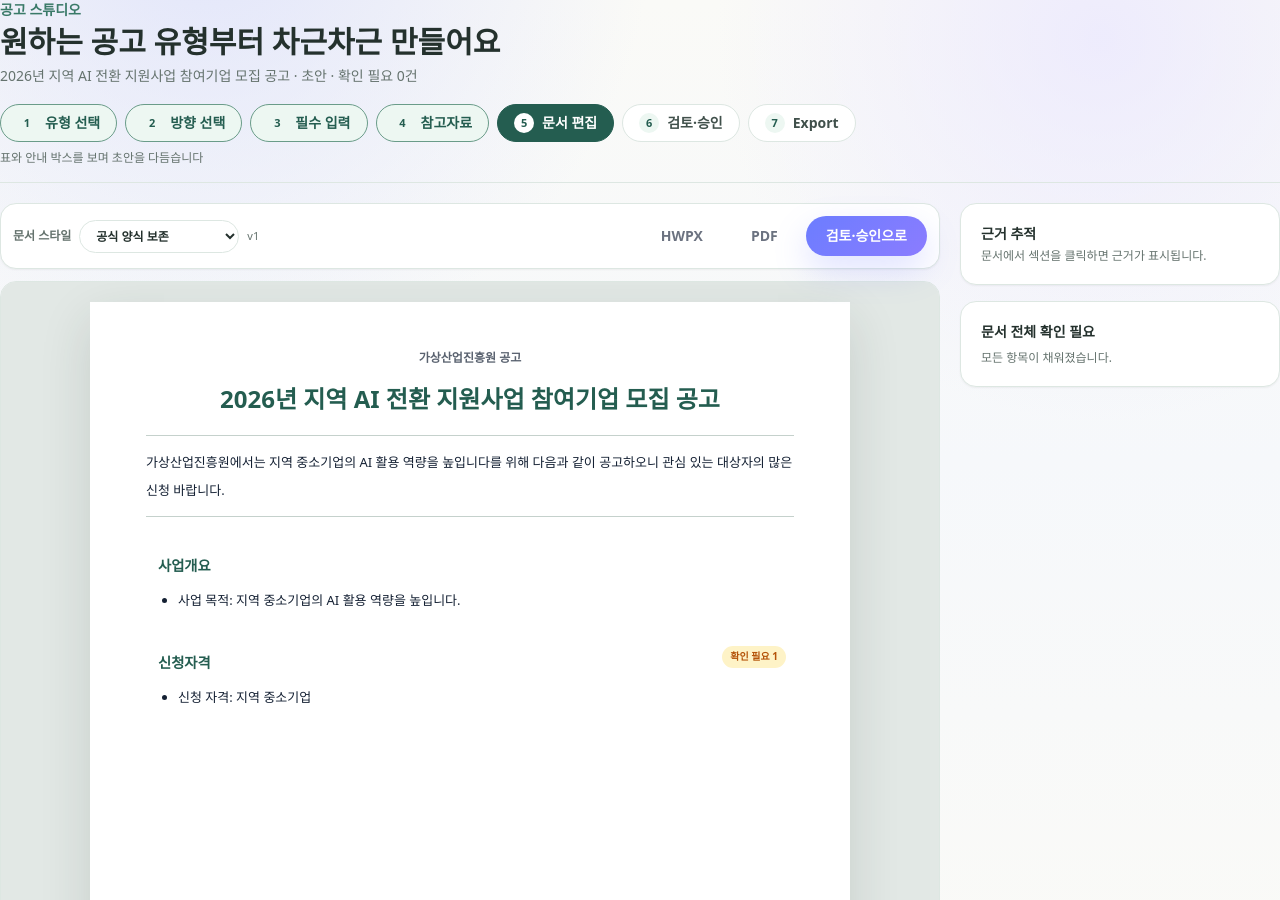
it: AgencyStudio › shows the source trace panel for the selected section
Click the button with test id "editor-section-eligibility": (754, 657) [146,638,794,727]
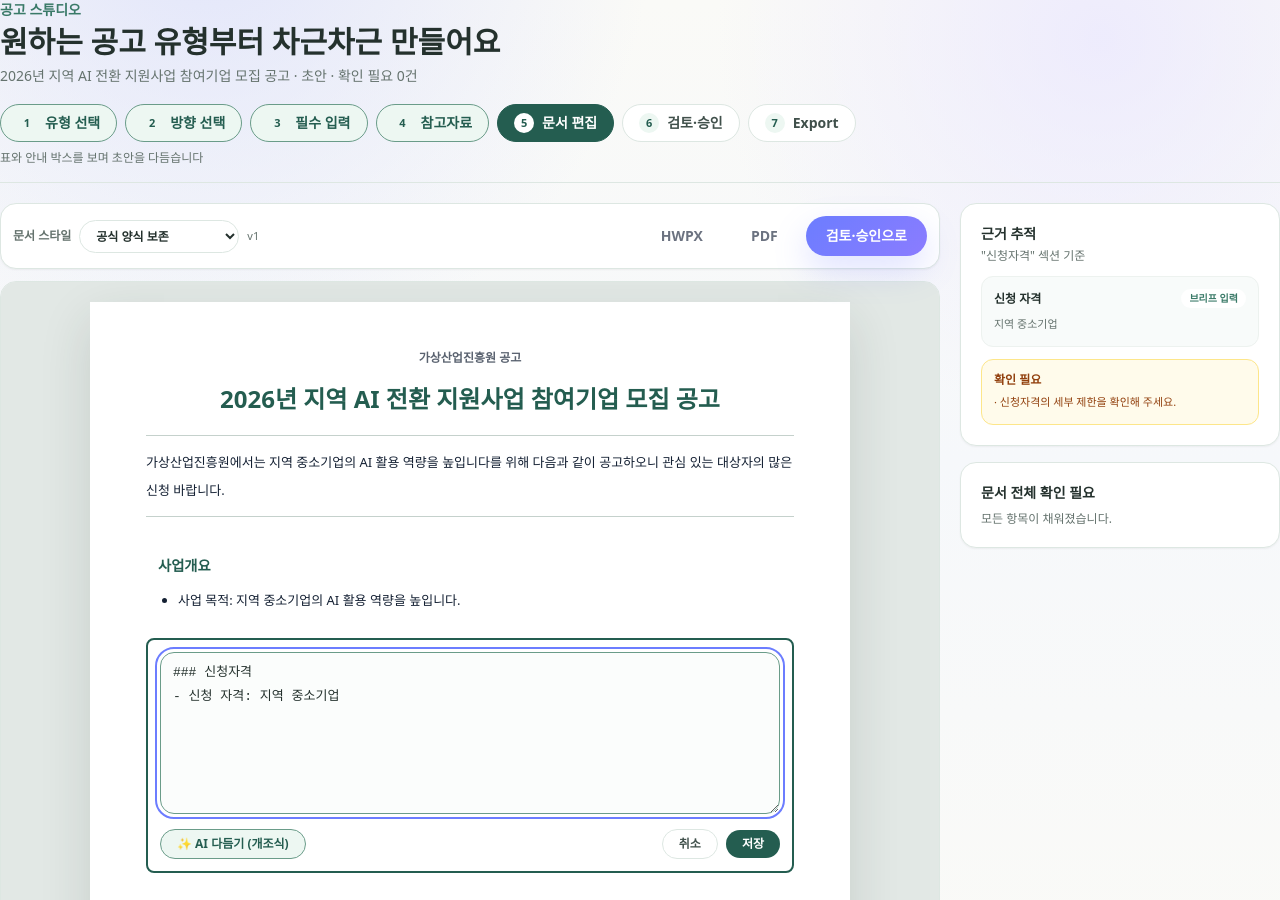
Expected: the text "지역 중소기업" is shown, [994,316,1058,331]
Expected: the element with test id "editor-source-traces" is shown, [981,276,1259,347]
Expected: the list item "· 신청자격의 세부 제한을 확인해 주세요." is shown, [994,394,1176,409]
